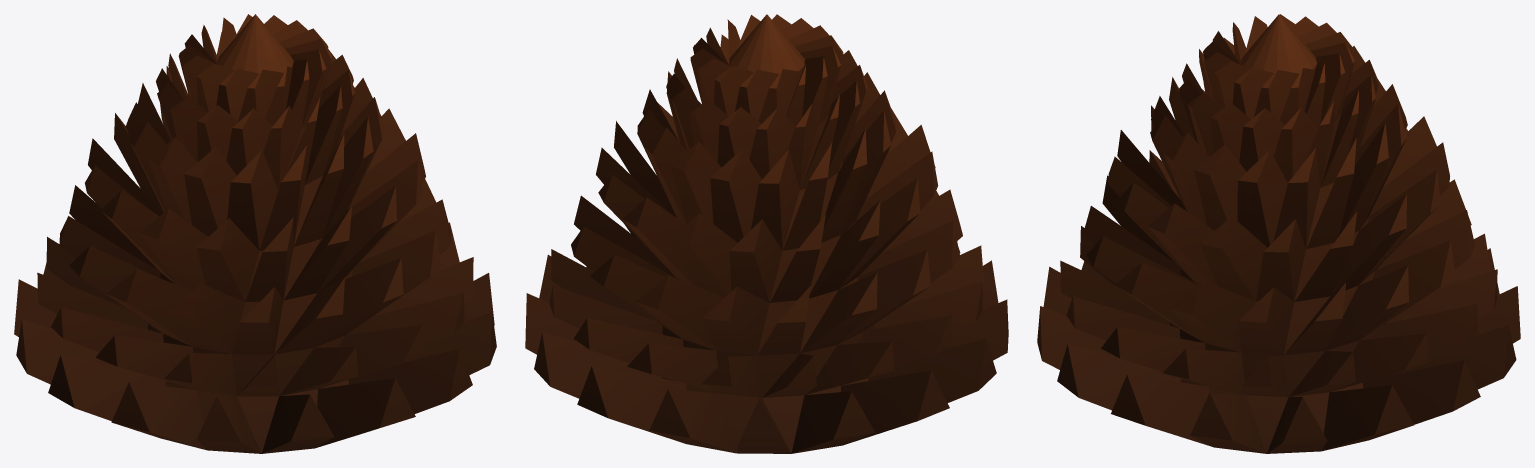
Rendered from pinecone.glb.
3 renders of one model, left to right at view 1: azimuth 30°, elevation 25°; view 2: azimuth 150°, elevation 25°; view 3: azimuth 270°, elevation 25°, orthographic.
Parts seen in each view (by area): view 1: Cylinder.006; view 2: Cylinder.006; view 3: Cylinder.006.
Boxes of the visible parts, <box> form: Cylinder.006: <box>14,14,496,453</box>; Cylinder.006: <box>525,14,1008,453</box>; Cylinder.006: <box>1037,14,1520,453</box>.
Size of the model in its own units: 0.7598 by 0.7261 by 0.7598.
Materials: 1 (1 with a texture image).
